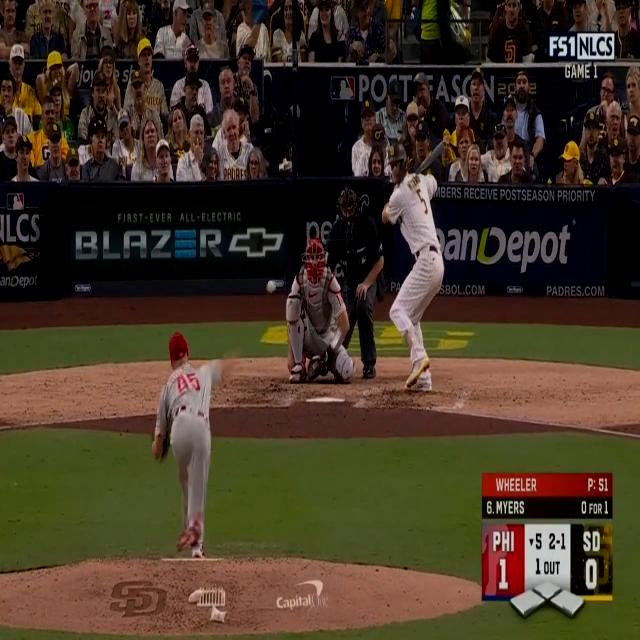ball: (266, 280, 276, 292)
bat: (416, 140, 448, 174)
